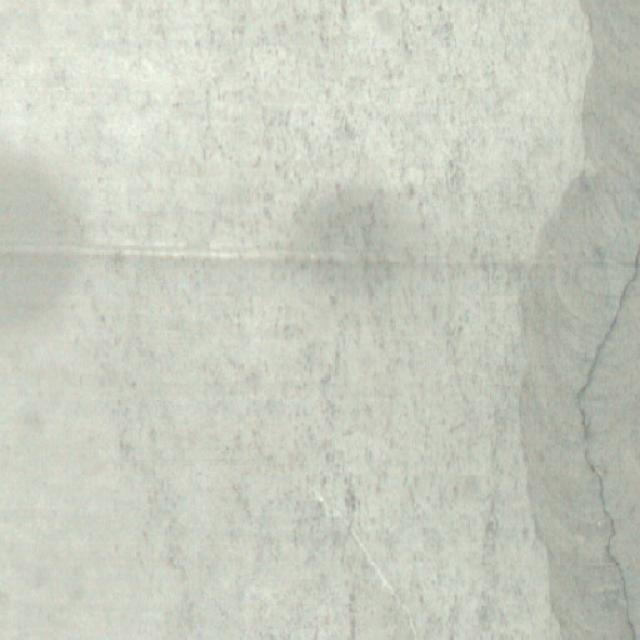Longitudinal: (571, 251, 640, 639)
